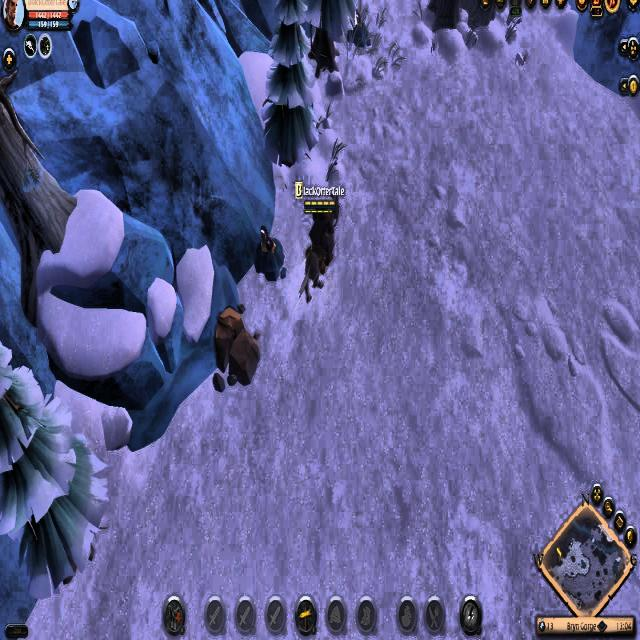copperore: (251, 222, 287, 284), (344, 6, 371, 54)
limestone: (210, 307, 261, 391)
